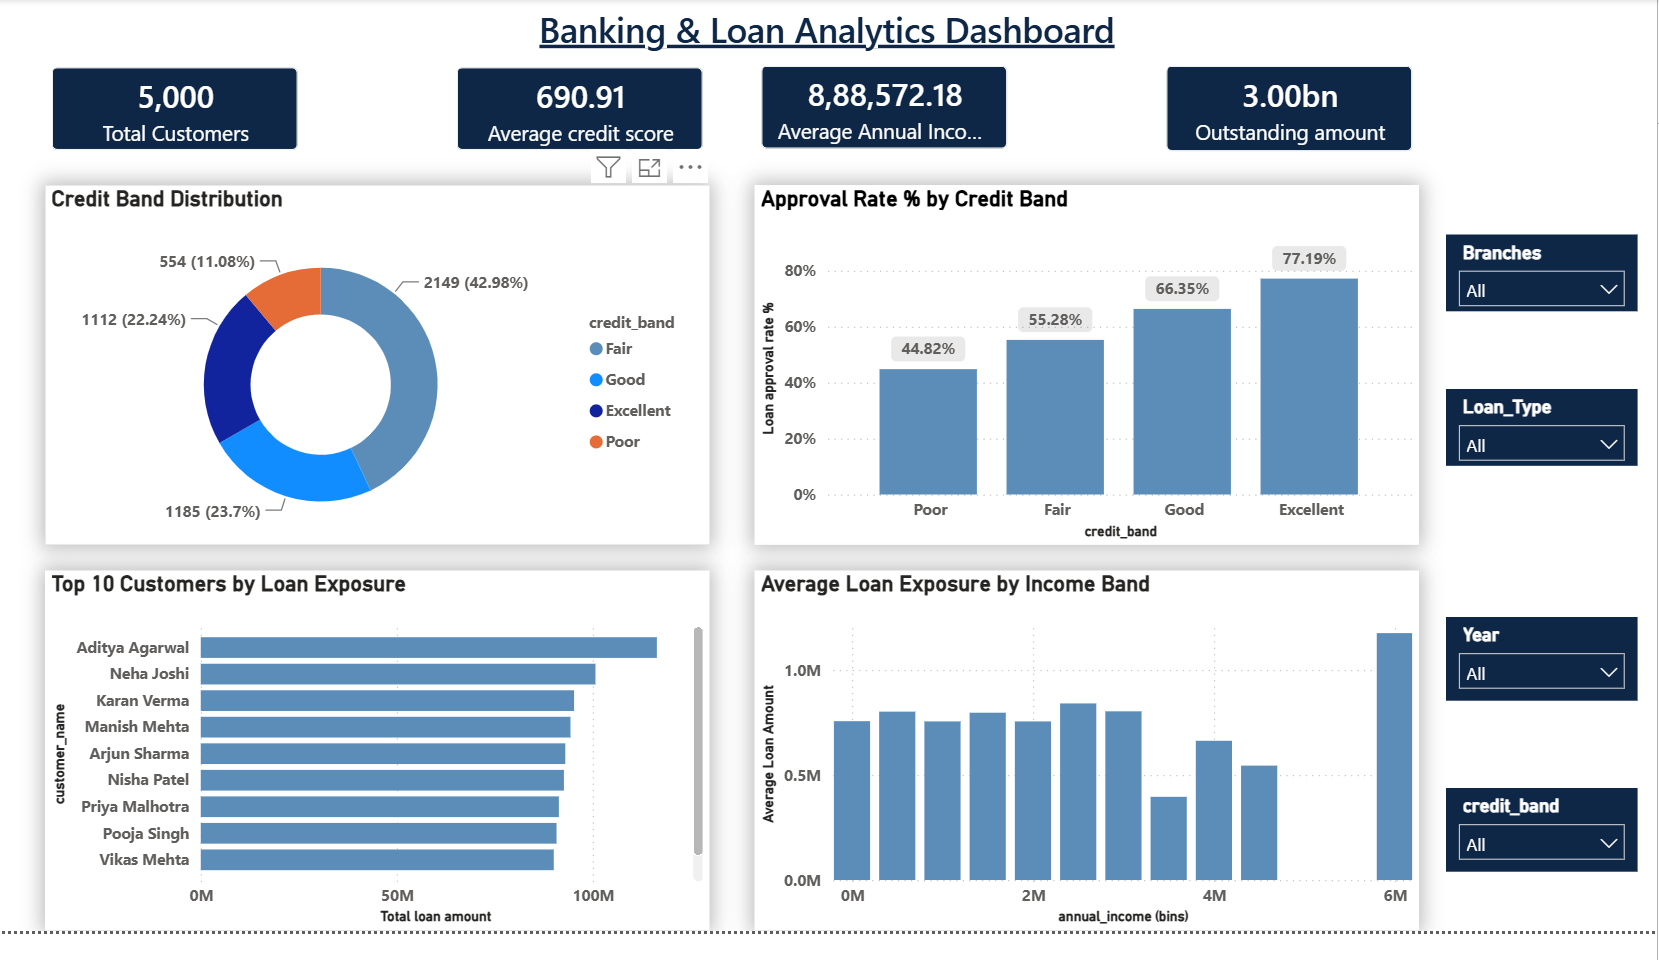

This screenshot's page, from the dashboard's own definition file:
{"tool":"powerbi","page":{"name":"Customers & Credit Analysis","canvas":[1280,720],"ordinal":2},"visuals":[{"type":"cardVisual","fields":{"Data":["customers.total customers"]},"box":[34.8,47.5,200.6,74.8],"z":0},{"type":"cardVisual","fields":{"Data":["loans.Outstanding amount"]},"box":[895.7,47.5,200.6,74.8],"z":1},{"type":"cardVisual","fields":{"Data":["customers.Average Annual Income"]},"box":[582.8,46.3,200.6,74.8],"z":2},{"type":"cardVisual","fields":{"Data":["customer_profile.Average credit score"]},"box":[347.6,47.5,200.6,74.8],"z":3},{"type":"textbox","box":[411.7,0,456.5,47.5],"z":4},{"type":"donutChart","title":"Credit Band Distribution","fields":{"Y":["customers.total customers"],"Category":["customer_profile.credit_band"]},"box":[34.8,143.7,513.3,278.1],"z":5},{"type":"clusteredColumnChart","title":"Approval Rate % by Credit Band","fields":{"Category":["customer_profile.credit_band"],"Y":["loan_applications.Loan approval rate %"]},"box":[582.8,143.7,513.3,278.1],"z":6},{"type":"clusteredBarChart","title":"Top 10 Customers by Loan Exposure","fields":{"Category":["customers.customer_name"],"Y":["loans.Total loan amount"]},"box":[34.8,441.5,513.3,278.1],"z":7},{"type":"clusteredColumnChart","title":"Average Loan Exposure by Income Band","fields":{"Category":["customers.annual_income (bins)"],"Y":["loans.Average Loan Amount"]},"box":[582.8,441.5,513.3,278.1],"z":8},{"type":"slicer","fields":{"Values":["branches.branch_name"]},"box":[1117,181.9,148.3,59.1],"z":9},{"type":"slicer","fields":{"Values":["loans.loan_type"]},"box":[1117,301.3,148.3,59.1],"z":10},{"type":"slicer","fields":{"Values":["DateTable.Year"]},"box":[1117,477.4,148.3,64.9],"z":11},{"type":"slicer","fields":{"Values":["customer_profile.credit_band"]},"box":[1117,609.5,148.3,64.9],"z":12}]}

Visuals, with their boxes in screenshot pixels (x1, y1, x2, y2), scaled from the page's 1280x720 canvas onto the 1659x960 screenshot:
cardVisual - customers.total customers: [45,63,305,163]
cardVisual - loans.Outstanding amount: [1161,63,1421,163]
cardVisual - customers.Average Annual Income: [755,62,1015,161]
cardVisual - customer_profile.Average credit score: [451,63,711,163]
textbox: [534,0,1125,63]
"Credit Band Distribution" donutChart: [45,192,710,562]
"Approval Rate % by Credit Band" clusteredColumnChart: [755,192,1421,562]
"Top 10 Customers by Loan Exposure" clusteredBarChart: [45,589,710,959]
"Average Loan Exposure by Income Band" clusteredColumnChart: [755,589,1421,959]
slicer - branches.branch_name: [1448,243,1640,321]
slicer - loans.loan_type: [1448,402,1640,481]
slicer - DateTable.Year: [1448,637,1640,723]
slicer - customer_profile.credit_band: [1448,813,1640,899]
